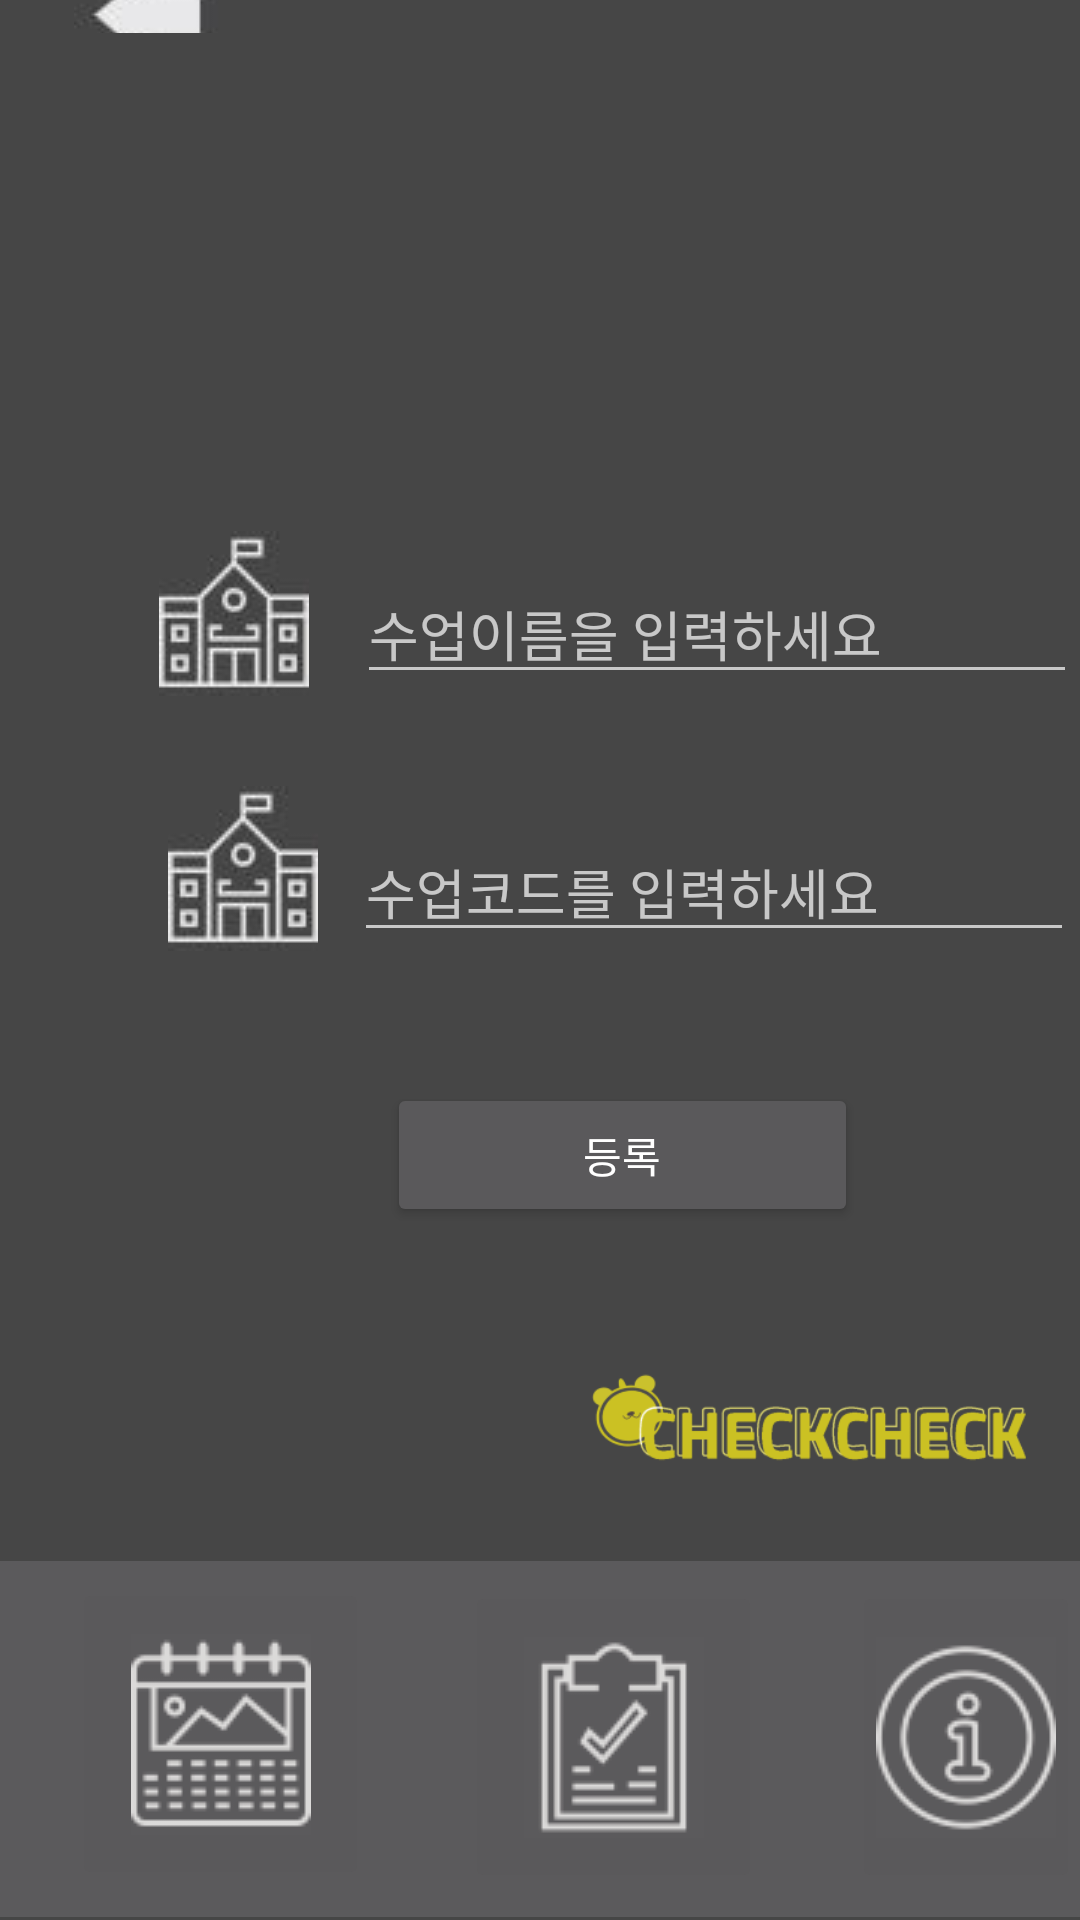

Icon click points for this 1080 x 1920 phone screenshot, format (x=x, y=y):
cal: (x=221, y=1734)
doc: (x=614, y=1737)
scho: (x=234, y=612), (x=243, y=867)
